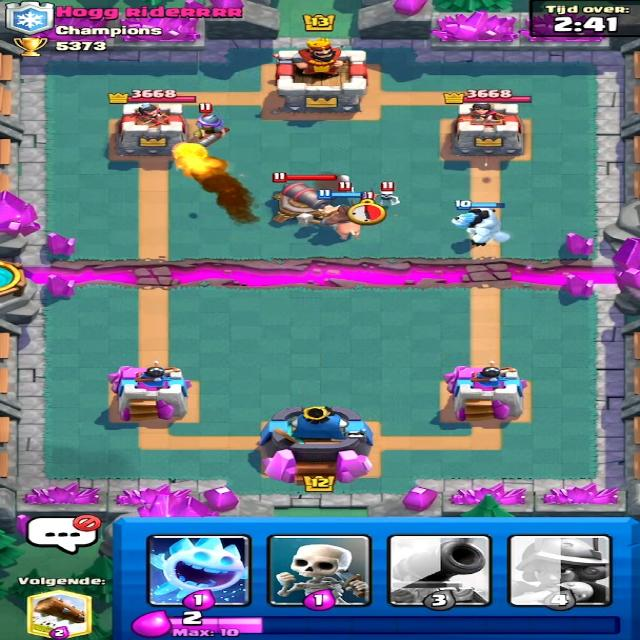Cannon_Card: (400, 535, 488, 603)
Enemy_Cannon_Troop: (271, 178, 337, 216)
Enemy_Musketeer_Troop: (188, 105, 232, 146)
Fireball_Troop: (170, 141, 222, 173)
Hog_Rider_Troop: (316, 205, 364, 240)
Ice_Golem_Troop: (448, 210, 518, 248)
Ice_Spirit_Card: (148, 535, 247, 605)
Musketeer_Card: (509, 532, 609, 610)
Skeleton_Card: (262, 534, 378, 611)
